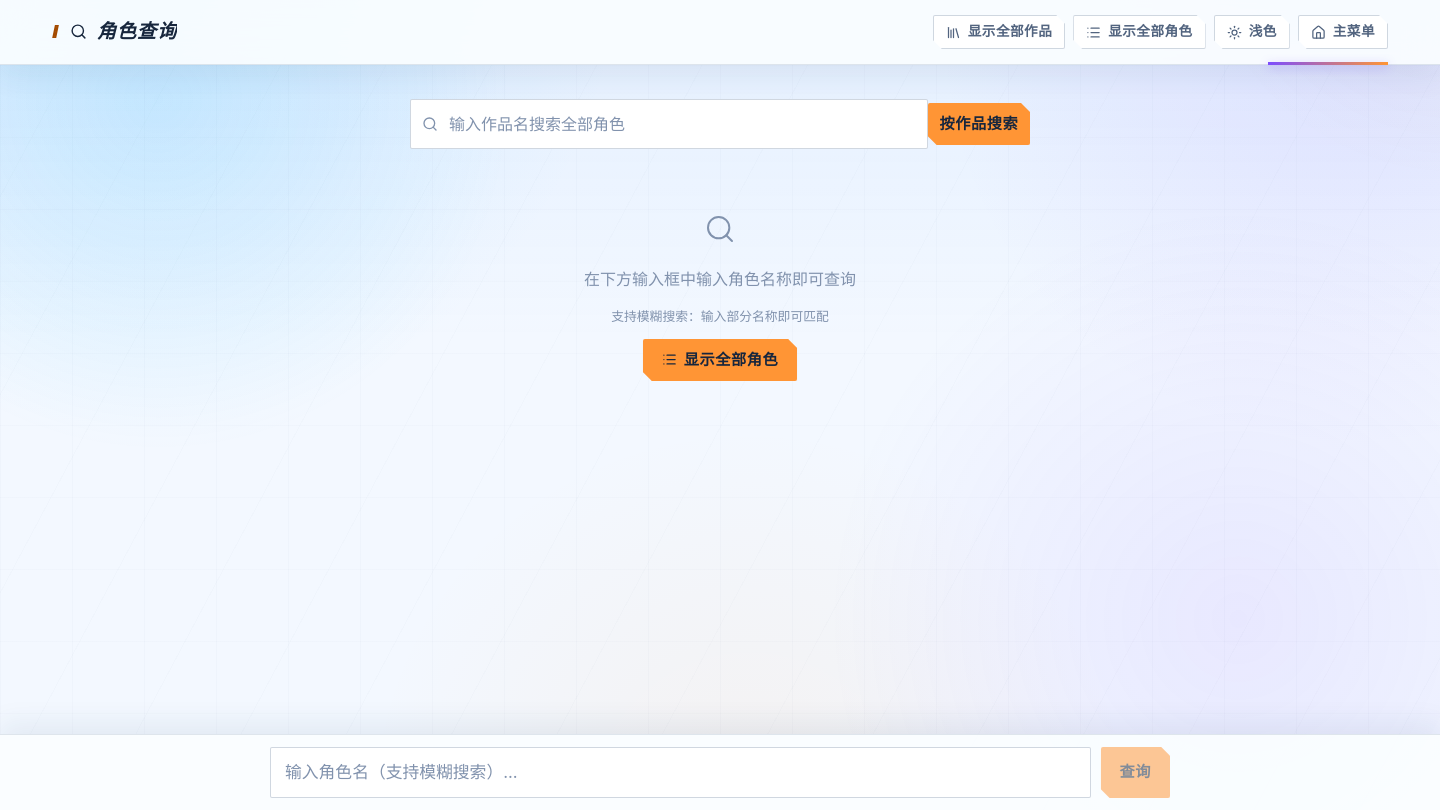
it: Search › searches all characters under a work
Type "AIR" into the dropdown with placeholder "输入作品名搜索全部角色" at (669, 124), box [410, 99, 928, 149]
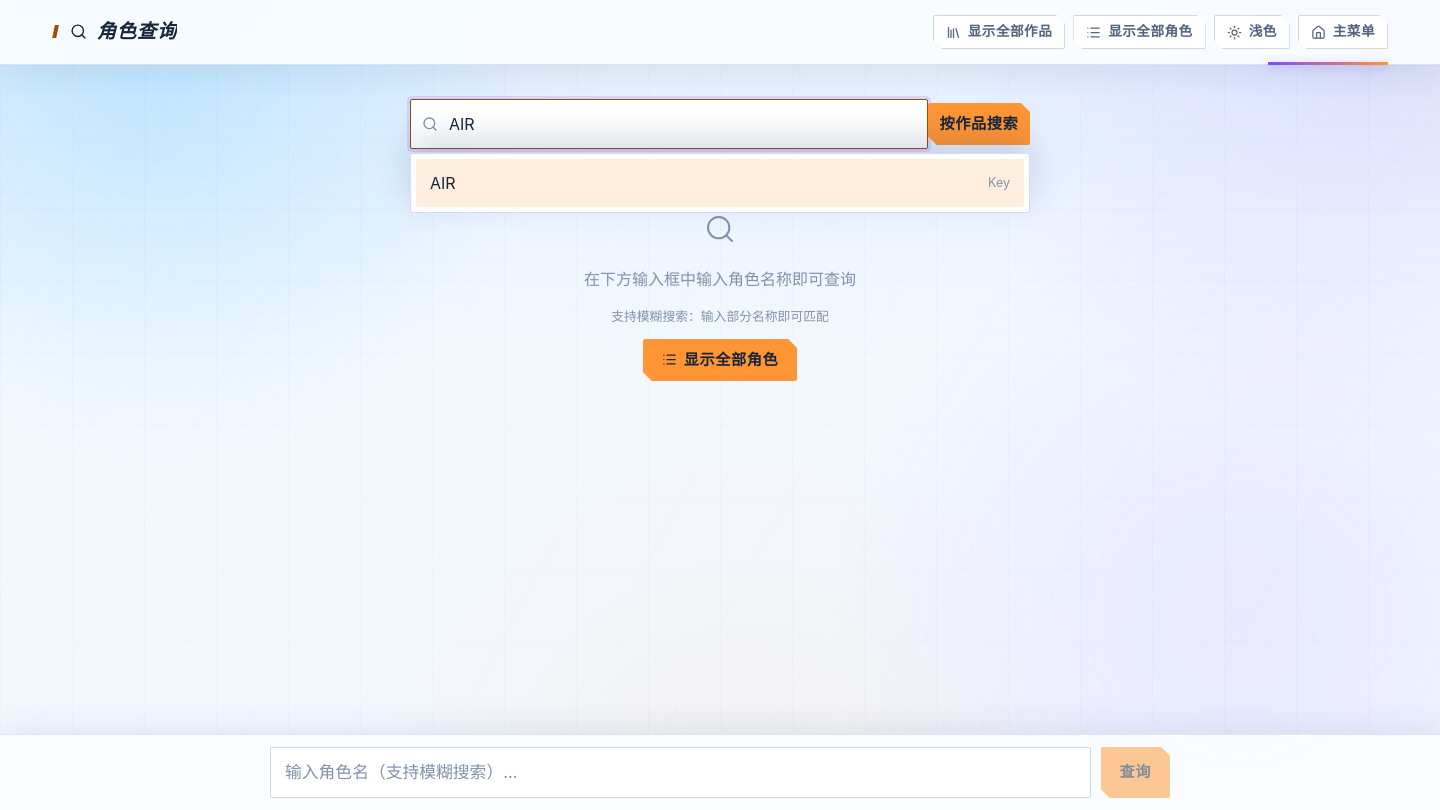
Click the button "按作品搜索" at (979, 124), box [928, 103, 1030, 145]
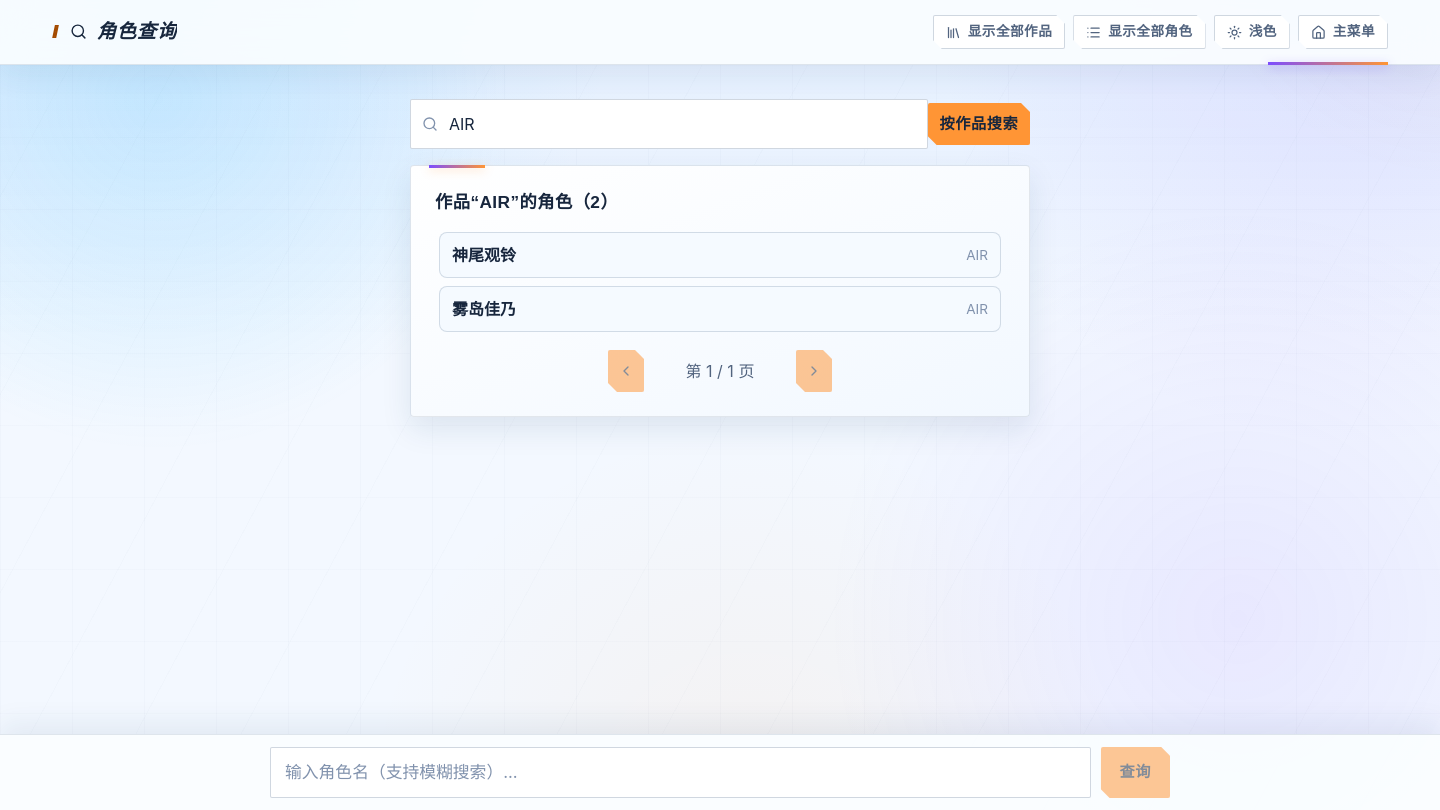
Result: the heading "作品“AIR”的角色（2）" is shown at [435, 192, 618, 212]
Result: the text "神尾观铃" is shown at [452, 243, 516, 267]
Result: the text "雾岛佳乃" is shown at [452, 297, 516, 321]
